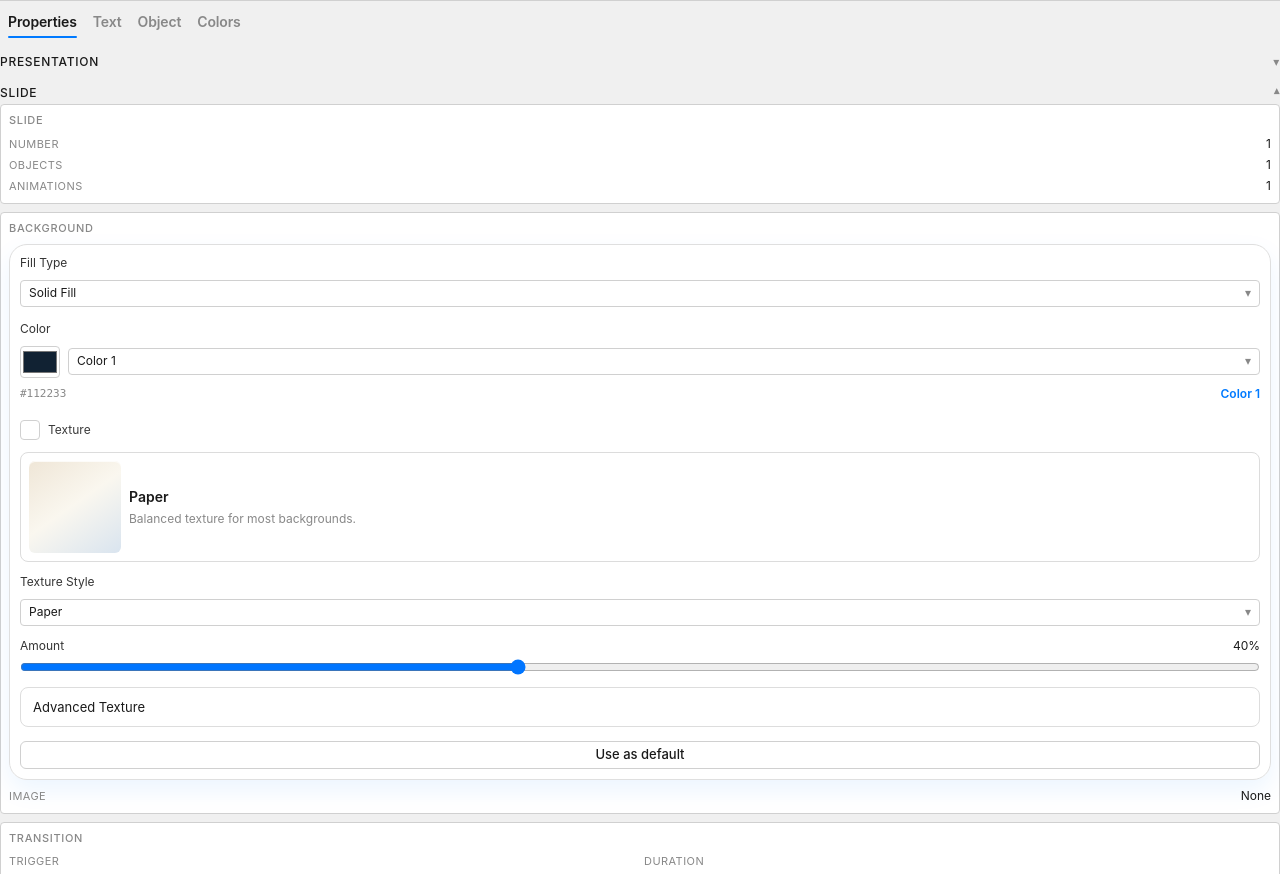
Test: PropertiesPanel › keeps only one section open at a time
Click the button "Presentation ▾".
click(50, 62)  # box [0,54,1279,69]
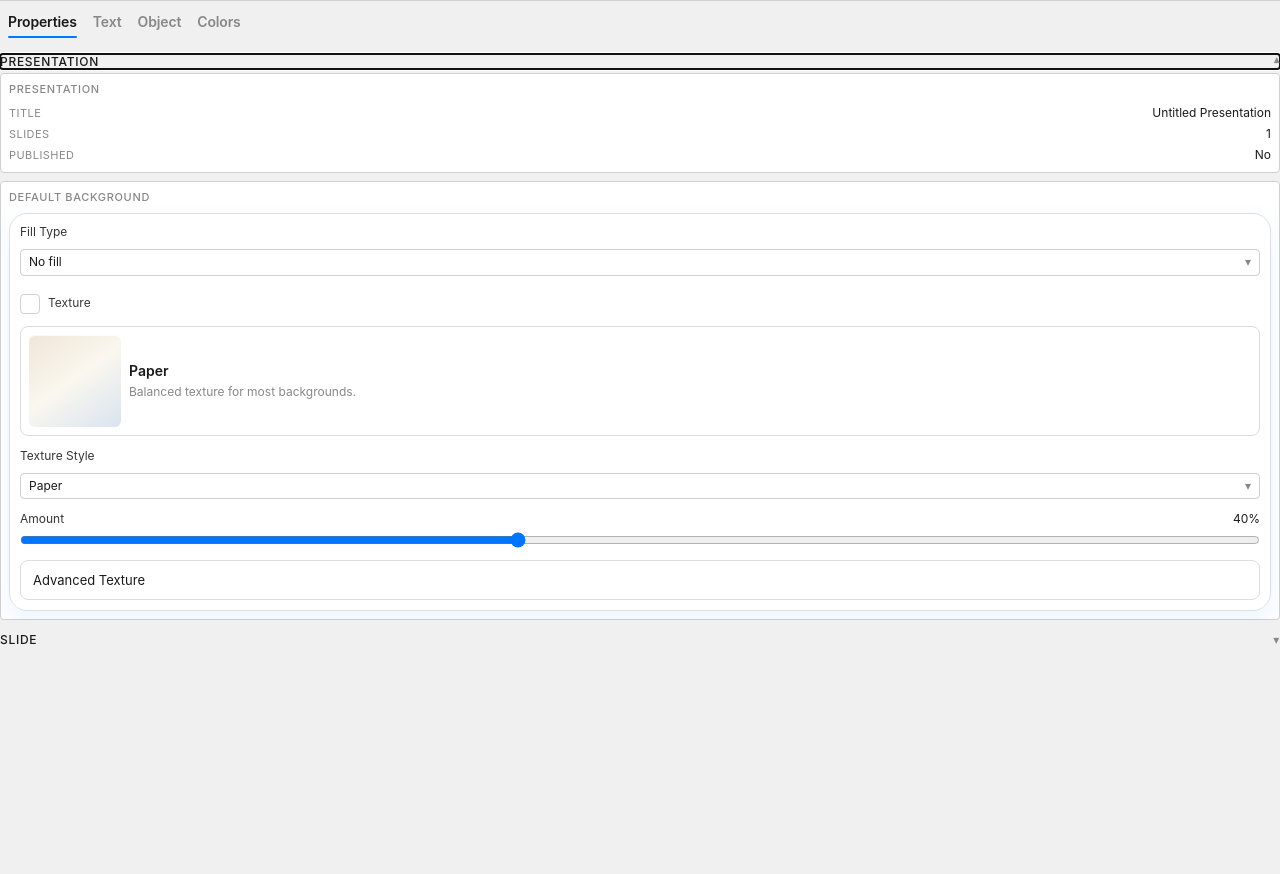
Check: the button "Presentation ▾" is expanded, box [0,54,1279,69]
Check: the button "Slide ▾" is collapsed, box [0,632,1279,647]
